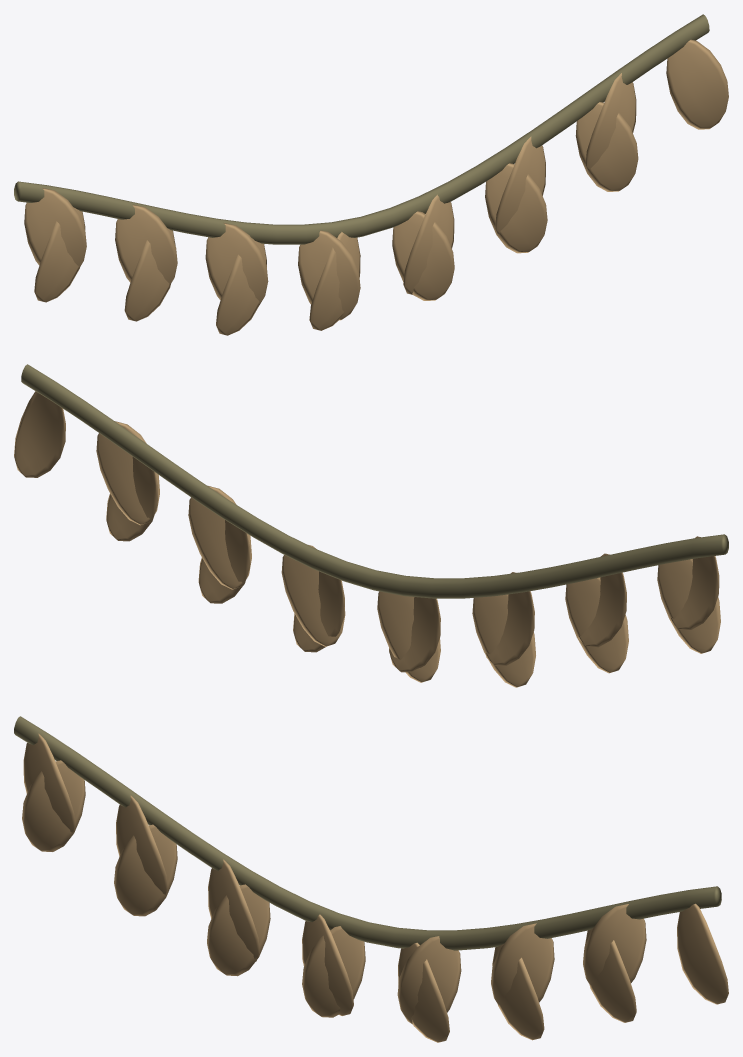
File: leafgarland.glb
The picture shows the model from 3 angles, top to bottom: view 1: azimuth 30°, elevation 25°; view 2: azimuth 150°, elevation 25°; view 3: azimuth 330°, elevation 25°; orthographic projection.
Visible parts, largest first — view 1: autumn-garland-bound-vine, autumn-garland-leaf-14, autumn-garland-leaf-10, autumn-garland-leaf-12, autumn-garland-leaf-2, autumn-garland-leaf-8, autumn-garland-leaf-0, autumn-garland-leaf-4, autumn-garland-leaf-6, autumn-garland-leaf-13, autumn-garland-leaf-3, autumn-garland-leaf-1 (+4 smaller); view 2: autumn-garland-bound-vine, autumn-garland-leaf-14, autumn-garland-leaf-3, autumn-garland-leaf-1, autumn-garland-leaf-5, autumn-garland-leaf-13, autumn-garland-leaf-11, autumn-garland-leaf-9, autumn-garland-leaf-7, autumn-garland-leaf-6, autumn-garland-leaf-4, autumn-garland-leaf-0 (+4 smaller); view 3: autumn-garland-bound-vine, autumn-garland-leaf-14, autumn-garland-leaf-3, autumn-garland-leaf-1, autumn-garland-leaf-5, autumn-garland-leaf-13, autumn-garland-leaf-11, autumn-garland-leaf-7, autumn-garland-leaf-9, autumn-garland-leaf-2, autumn-garland-leaf-12, autumn-garland-leaf-10 (+4 smaller).
Boxes of the visible parts, box(x1,y1,x2,y2) form: autumn-garland-bound-vine: box(14, 14, 709, 244); autumn-garland-leaf-14: box(666, 39, 728, 129); autumn-garland-leaf-10: box(485, 163, 547, 253); autumn-garland-leaf-12: box(575, 102, 638, 191); autumn-garland-leaf-2: box(115, 204, 177, 284); autumn-garland-leaf-8: box(392, 211, 454, 300); autumn-garland-leaf-0: box(24, 188, 86, 268); autumn-garland-leaf-4: box(205, 223, 268, 305); autumn-garland-leaf-6: box(298, 230, 360, 320); autumn-garland-leaf-13: box(585, 73, 636, 170); autumn-garland-leaf-3: box(124, 228, 175, 321); autumn-garland-leaf-1: box(34, 207, 85, 302); autumn-garland-bound-vine: box(21, 364, 728, 598); autumn-garland-leaf-14: box(14, 391, 65, 477); autumn-garland-leaf-3: box(565, 577, 628, 673); autumn-garland-leaf-1: box(657, 559, 720, 653); autumn-garland-leaf-5: box(472, 594, 535, 687); autumn-garland-leaf-13: box(96, 421, 159, 525); autumn-garland-leaf-11: box(188, 485, 251, 589); autumn-garland-leaf-9: box(281, 545, 345, 646); autumn-garland-leaf-7: box(377, 591, 440, 682); autumn-garland-leaf-6: box(389, 597, 440, 672); autumn-garland-leaf-4: box(486, 572, 534, 665); autumn-garland-leaf-0: box(670, 536, 719, 629); autumn-garland-bound-vine: box(14, 716, 721, 950); autumn-garland-leaf-14: box(677, 903, 728, 1004); autumn-garland-leaf-3: box(114, 824, 177, 916); autumn-garland-leaf-1: box(22, 760, 85, 851); autumn-garland-leaf-5: box(207, 884, 270, 976); autumn-garland-leaf-13: box(583, 904, 646, 985); autumn-garland-leaf-11: box(491, 923, 554, 1005); autumn-garland-leaf-7: box(302, 926, 365, 1017); autumn-garland-leaf-9: box(397, 936, 461, 1024); autumn-garland-leaf-2: box(116, 795, 167, 894); autumn-garland-leaf-12: box(585, 928, 636, 1022); autumn-garland-leaf-10: box(492, 944, 544, 1040).
Bounding box in the file's own units: 1.33 × 0.3974 × 0.0444.
